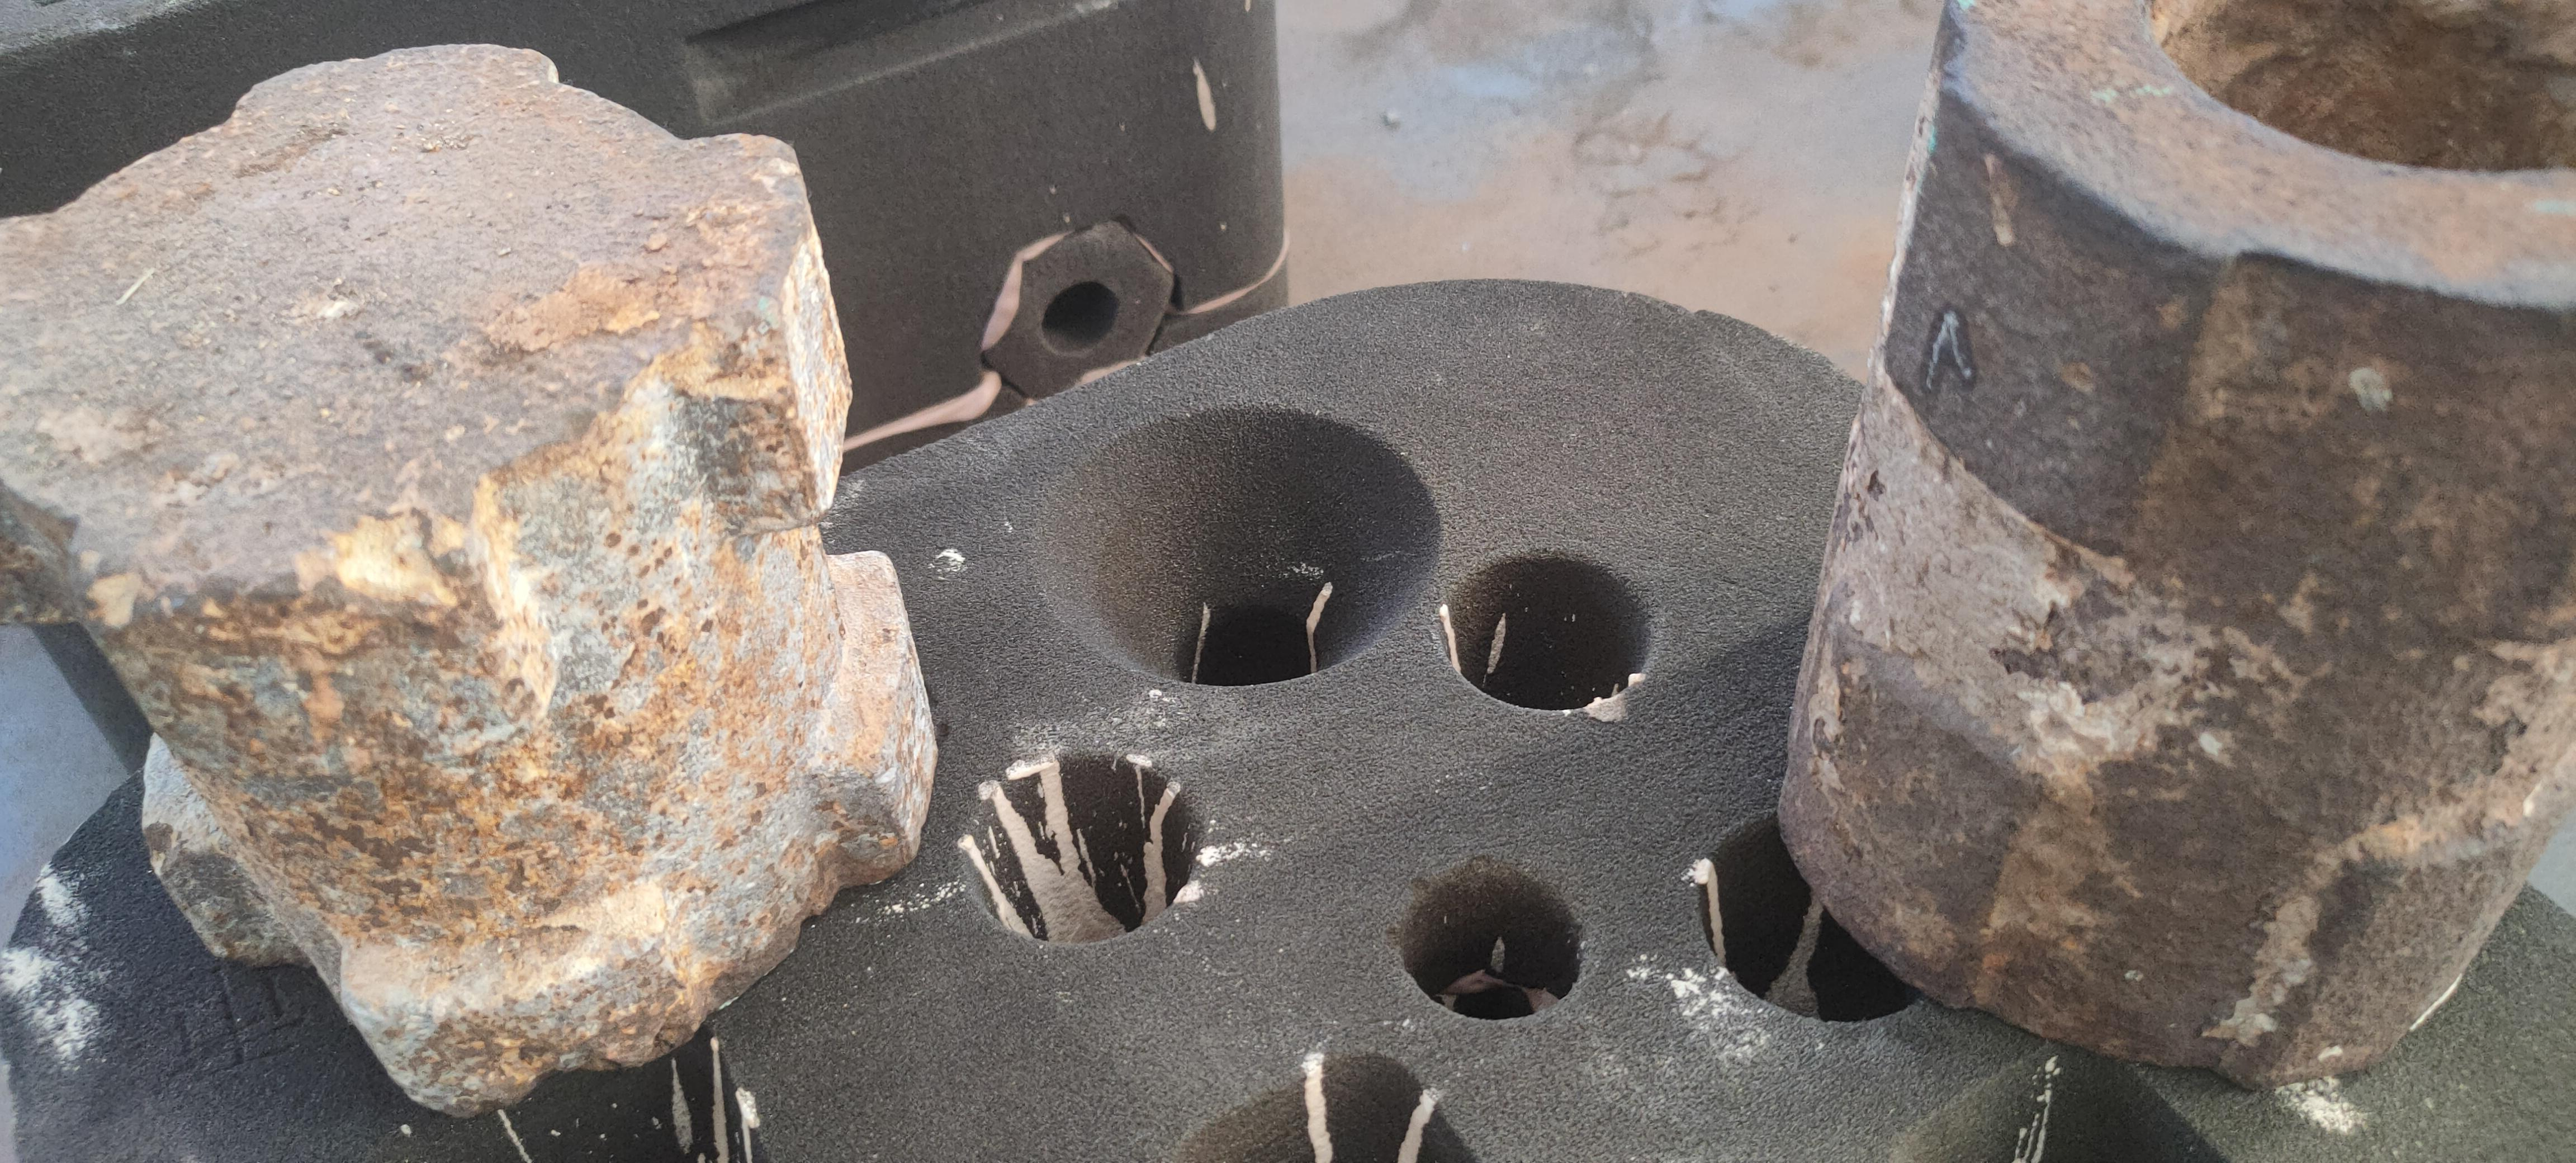pouring hole: (1030, 406, 1446, 687)
